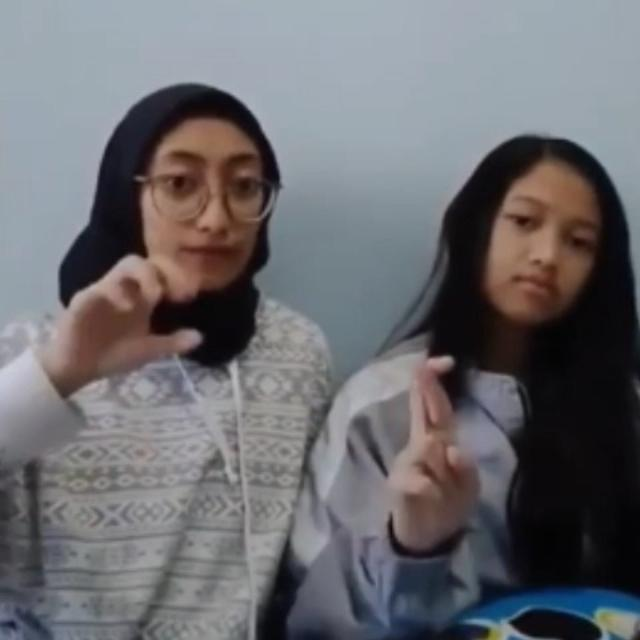R: (380, 348, 482, 544)
